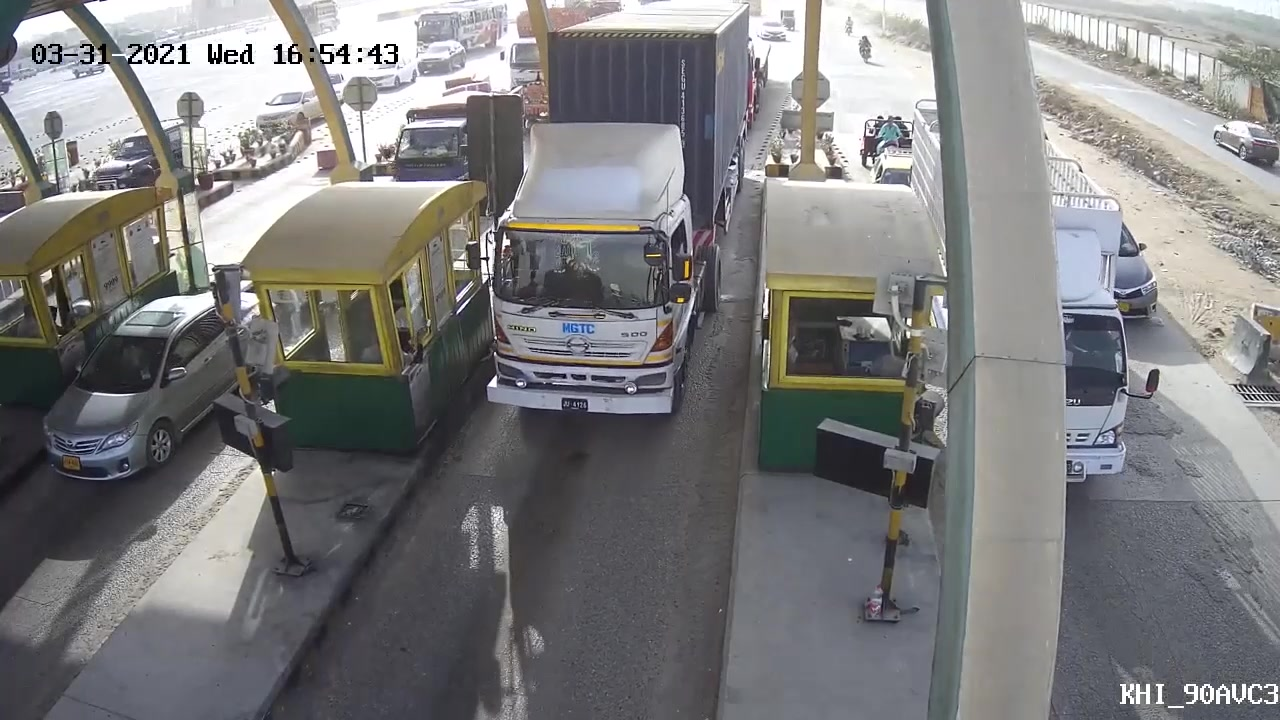F6: (476, 1, 761, 426)
